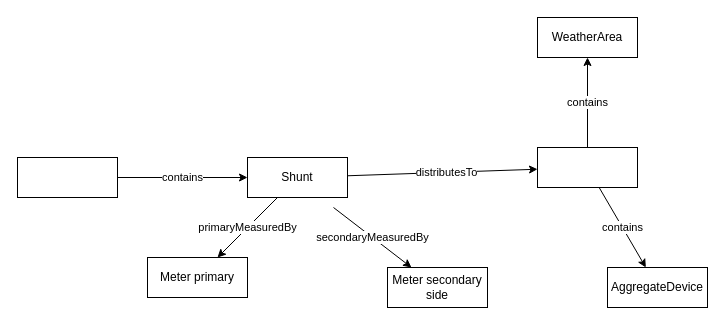
The diagram is 725 pixels wide and 325 high, and some of its shapes have lost their labels. Each missing label, with the box of its shape:
System: (16, 156, 118, 198)
Zone: (536, 146, 638, 188)
